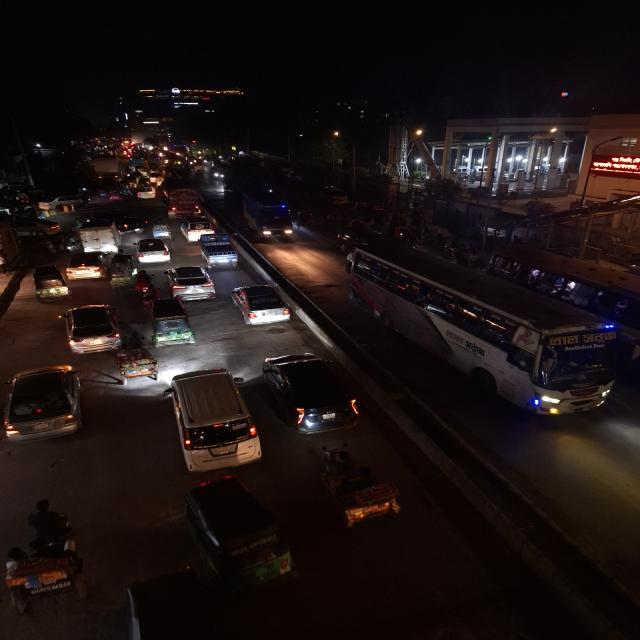bus: (342, 239, 630, 417), (491, 244, 640, 344)
car: (167, 368, 263, 473), (256, 348, 364, 436), (0, 362, 89, 444), (57, 304, 124, 354), (228, 281, 295, 329), (162, 264, 218, 300), (62, 250, 114, 282), (132, 237, 173, 264), (178, 214, 215, 241), (118, 215, 148, 235), (134, 185, 158, 200)
cng: (176, 481, 297, 595), (148, 298, 199, 349), (30, 264, 70, 302), (108, 253, 137, 287)
motorcycle: (131, 269, 155, 300)
rickshaw: (313, 444, 408, 532), (0, 534, 91, 616), (111, 344, 162, 386), (150, 220, 172, 240)
truck: (238, 187, 295, 243), (196, 232, 242, 269), (160, 184, 203, 218), (79, 224, 120, 252)
